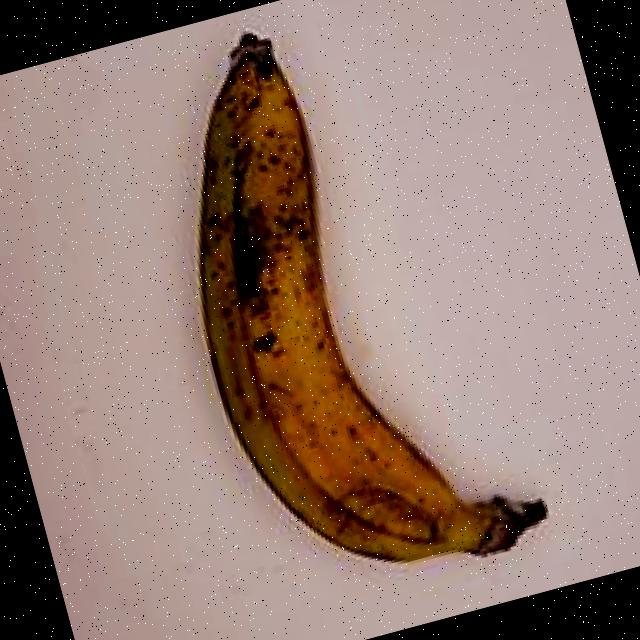Overripe: (103, 0, 586, 640)
